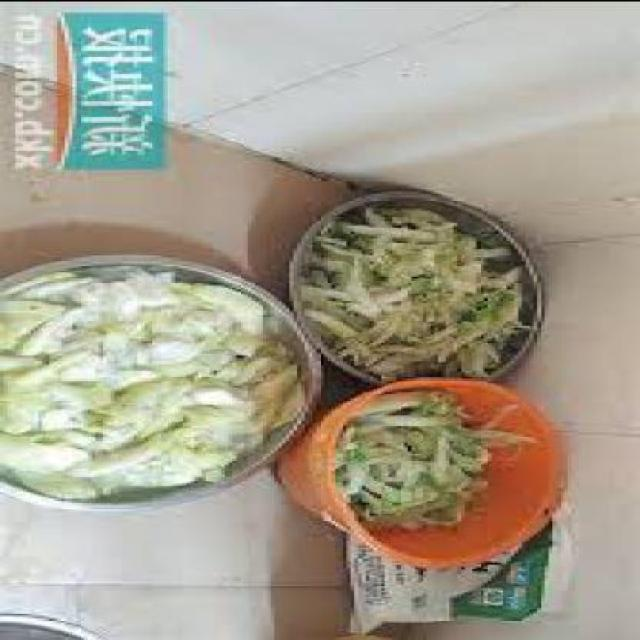BIODEGRADABLE: (4, 268, 308, 484), (312, 207, 530, 379), (339, 391, 492, 529), (23, 460, 119, 498), (480, 407, 537, 450)
METAL: (4, 258, 327, 510), (282, 191, 552, 384), (3, 612, 112, 638)
PLASTIC: (283, 379, 572, 570), (350, 533, 568, 636)
